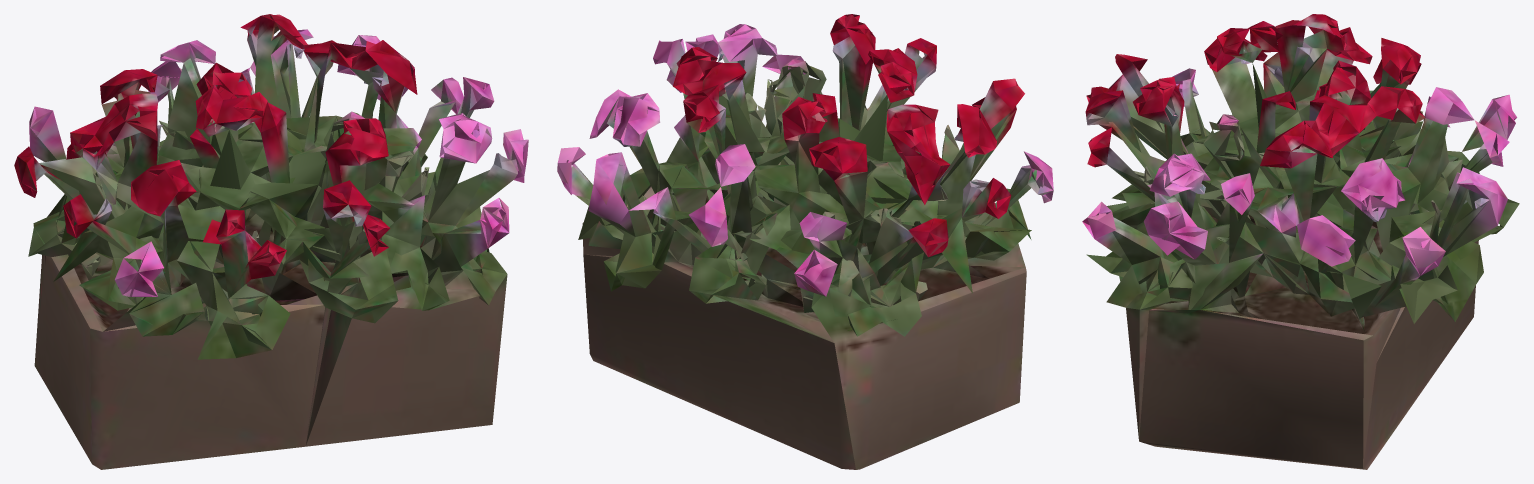
The model's file is flowers.glb.
3 views of the same model, side by side, from view 1: azimuth 30°, elevation 25°; view 2: azimuth 150°, elevation 25°; view 3: azimuth 270°, elevation 25° (orthographic). The views are drawn at different scales.
Visible parts, largest first — view 1: flowers; view 2: flowers; view 3: flowers.
Boxes of the visible parts, <box> form: flowers: <box>14,14,528,469</box>; flowers: <box>557,14,1053,469</box>; flowers: <box>1082,14,1519,469</box>.
Bounding box in the file's own units: 0.5043 × 0.4 × 0.4851.
1 material, 1 textured.
